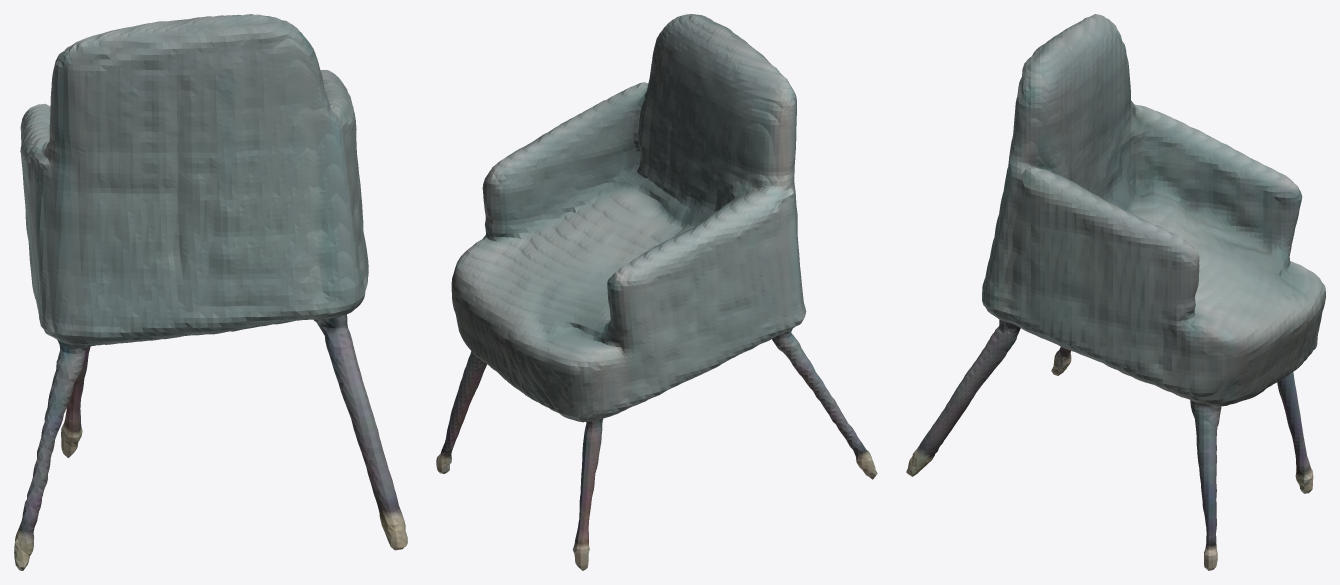
The model's file is tmpzggfl9mm.glb.
The picture shows the model from 3 angles, left to right: view 1: azimuth 30°, elevation 25°; view 2: azimuth 150°, elevation 25°; view 3: azimuth 270°, elevation 25°; orthographic projection. The views are drawn at different scales.
Parts seen in each view (by area): view 1: world; view 2: world; view 3: world.
Part boxes in pixels (x1,y1,x2,y2): world: [14, 14, 407, 570]; world: [436, 14, 877, 570]; world: [906, 14, 1325, 570].
Bounding box in the file's own units: 0.6202 × 0.7399 × 0.6289.
